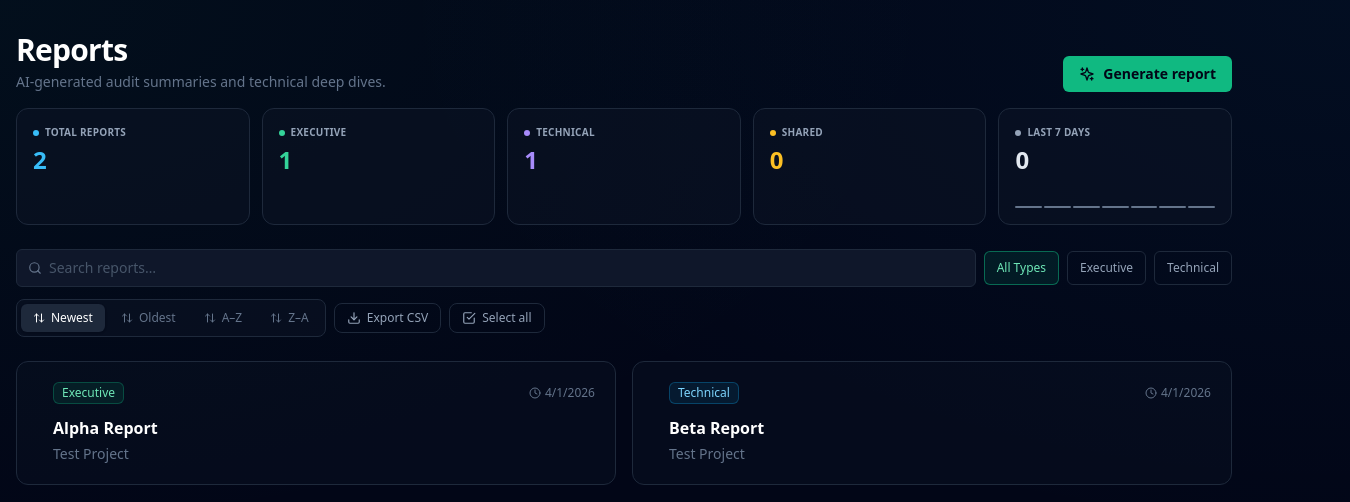
Test: Reports — bulk & filter functions › filters reports by search input
This screenshot has width=1350, height=502.
Expected: the heading "Alpha Report" is shown, [53,417,158,439]
Type "Beta" into the field with placeholder "Search reports…" at (496,268), box [16,249,976,287]
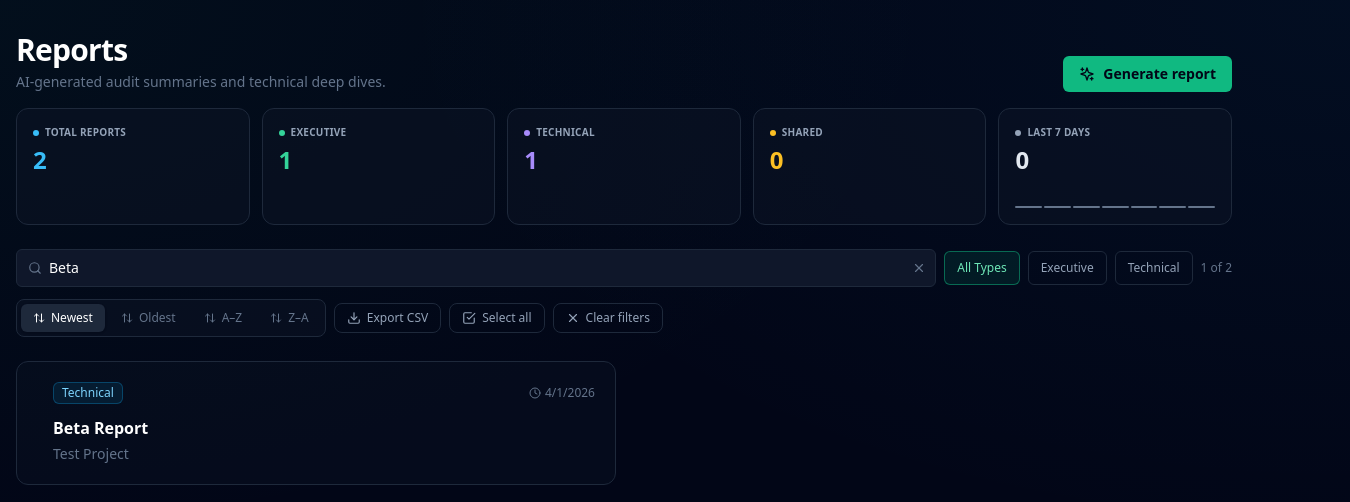
Expected: the heading "Beta Report" is shown, [53,417,148,439]
Result: the button "Alpha Report" is gone
